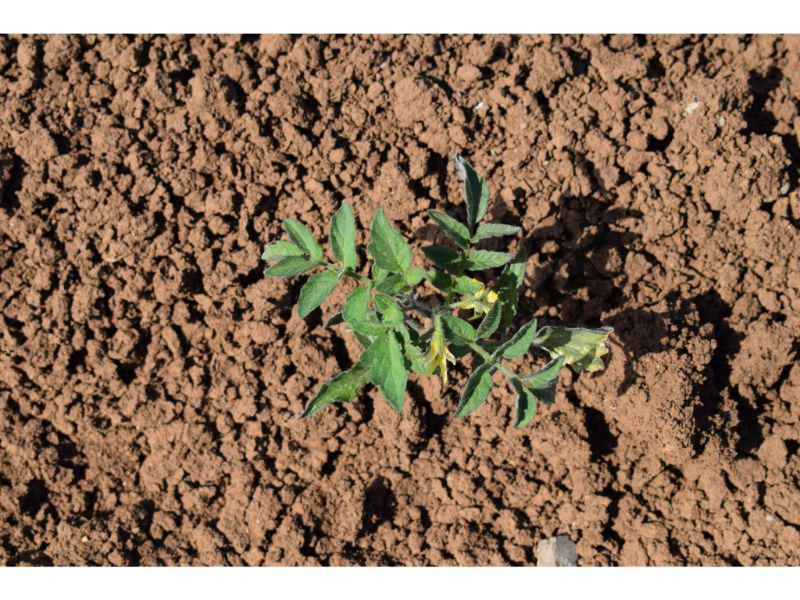tomato: (260, 156, 572, 429)
